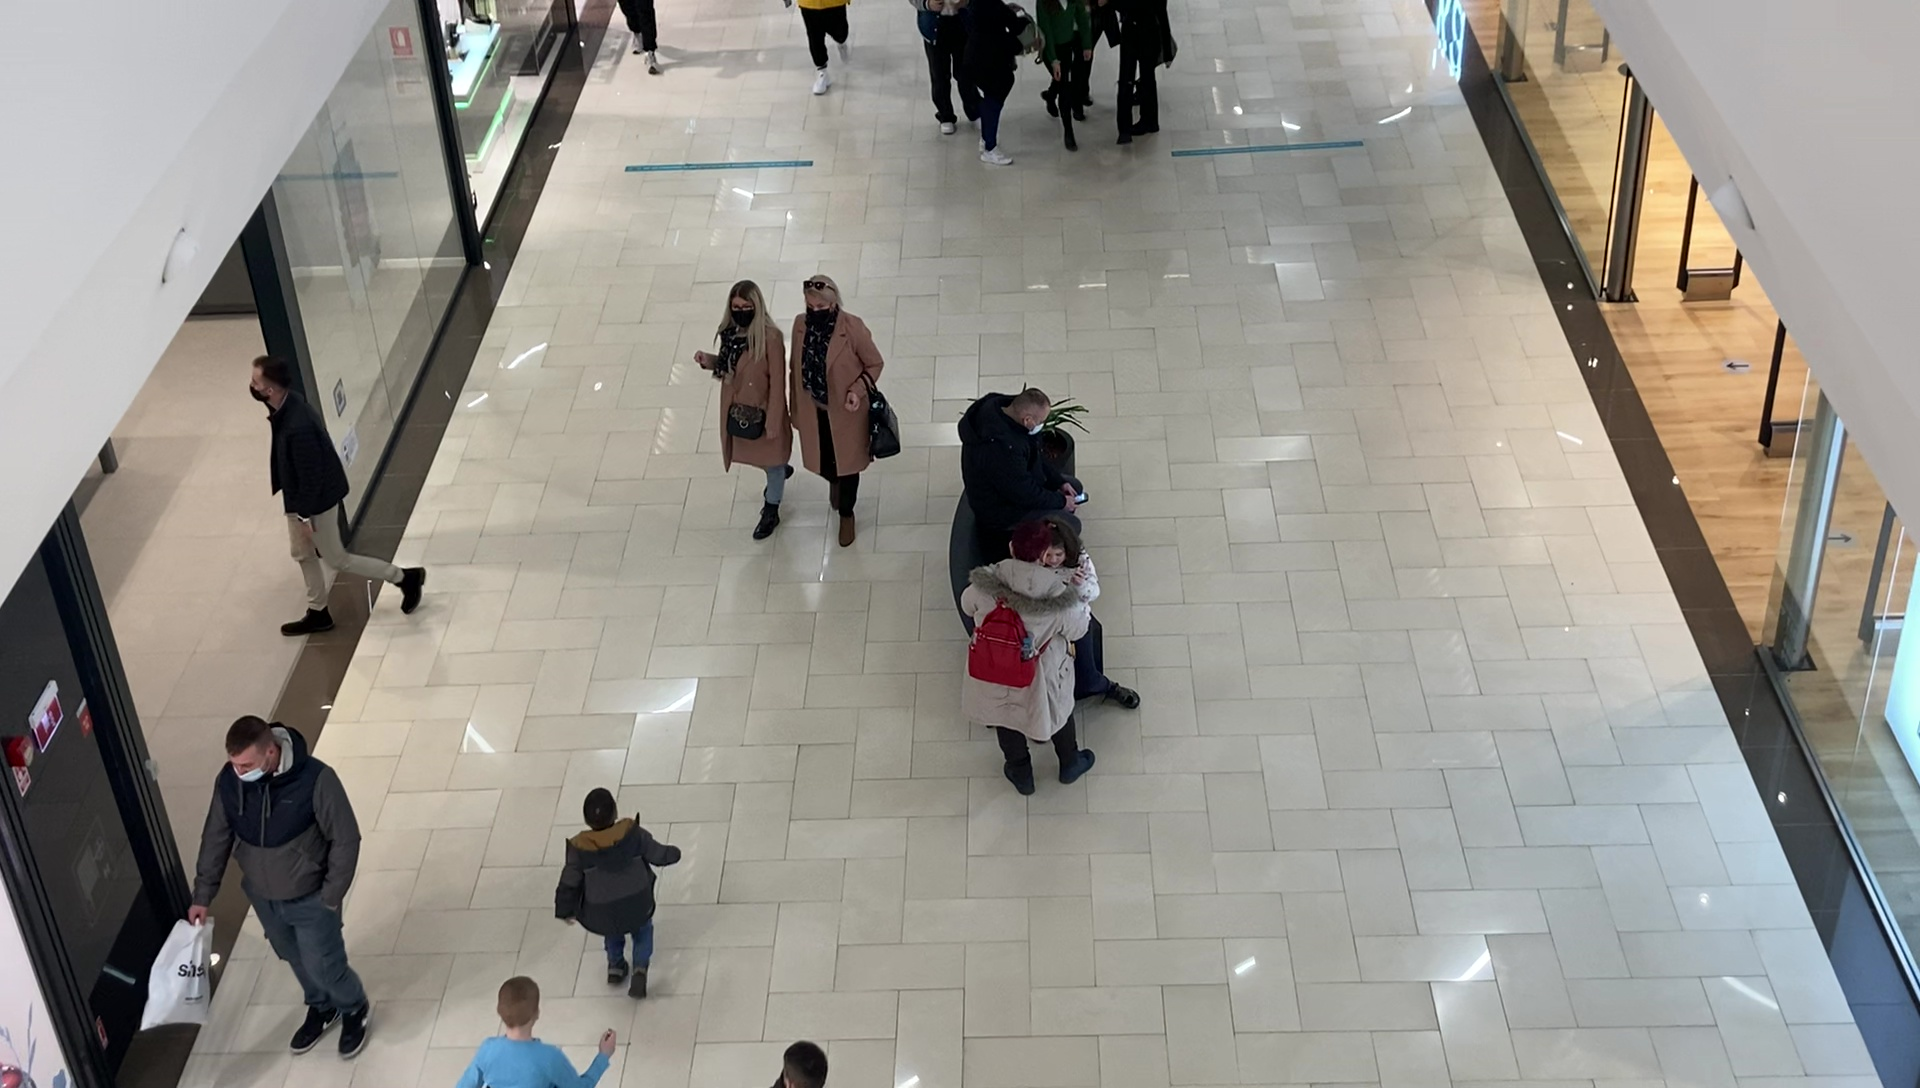person: (191, 716, 373, 1056), (247, 357, 426, 640), (958, 524, 1096, 796), (782, 274, 885, 548), (554, 788, 680, 1001), (695, 280, 796, 543), (455, 978, 618, 1088)
